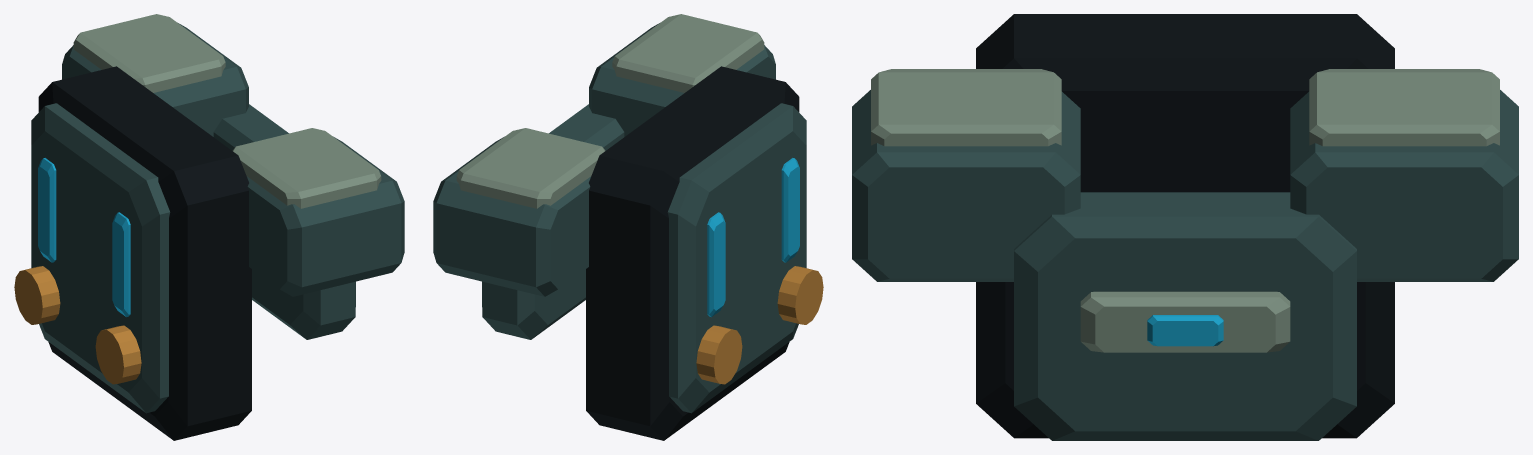
File: MarineArmor.obj
3 views of the same model, side by side, from view 1: azimuth 30°, elevation 25°; view 2: azimuth 150°, elevation 25°; view 3: azimuth 270°, elevation 25° (orthographic). The views are drawn at different scales.
Visible parts, largest first — view 1: MarineArmor; view 2: MarineArmor; view 3: MarineArmor.
Boxes of the visible parts, box(x1,y1,x2,y2) form: MarineArmor: box(14, 14, 404, 440); MarineArmor: box(433, 14, 823, 440); MarineArmor: box(852, 14, 1518, 440).
Size of the model in its own units: 44 by 44 by 70.
